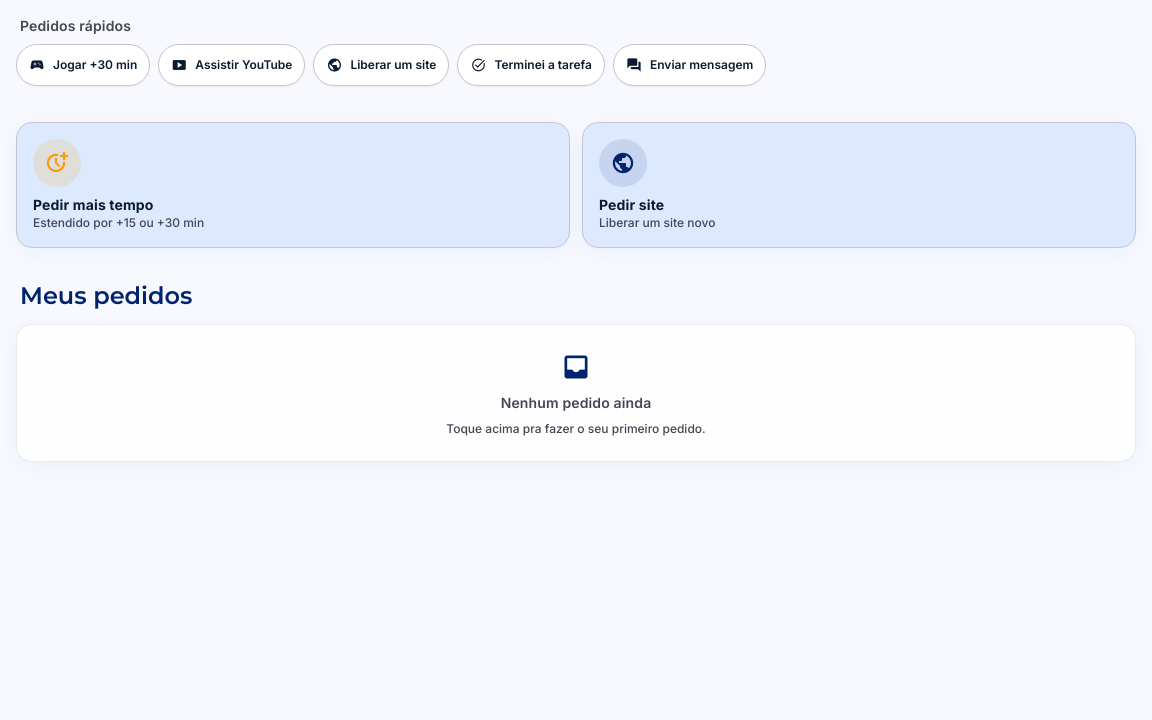
Requests › mostra erro do form quando a criação falha
Expected: the text "Nenhum pedido ainda" is shown, x1=501 y1=393 x2=651 y2=413
Click the button "Pedir mais tempo Estendido por +15 ou +30 min".
click(57, 163)  # box x1=16 y1=122 x2=570 y2=248
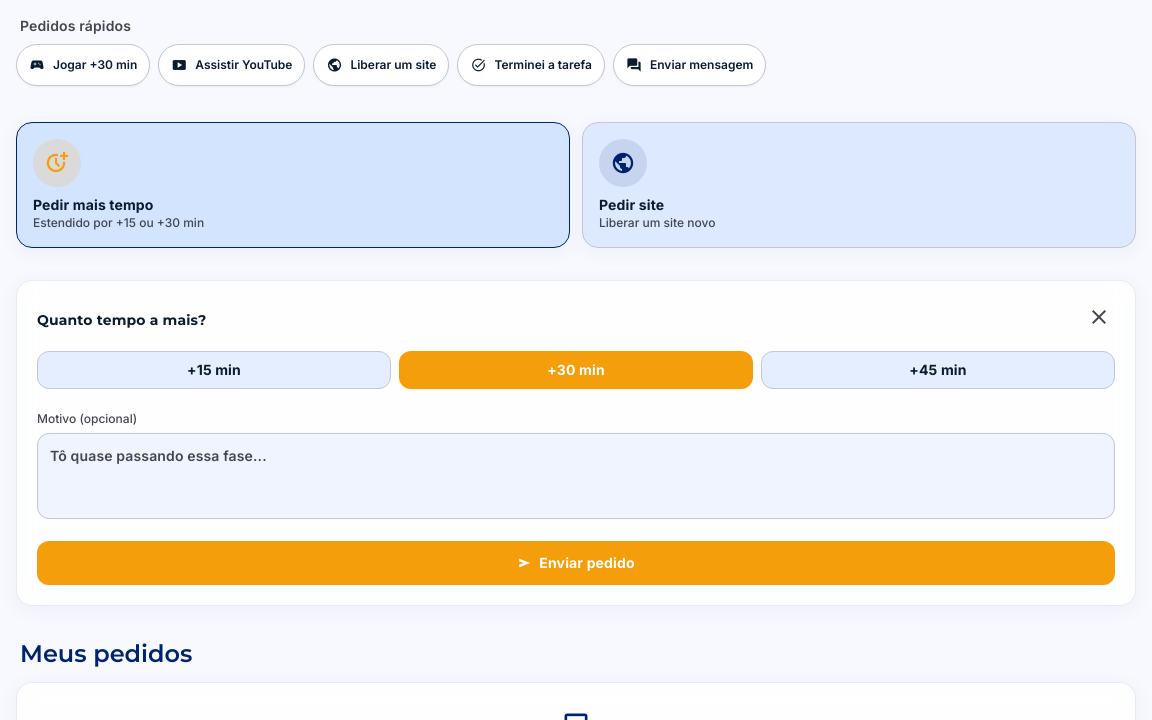
Click the button "Enviar pedido".
click(576, 563)  # box x1=37 y1=541 x2=1115 y2=585
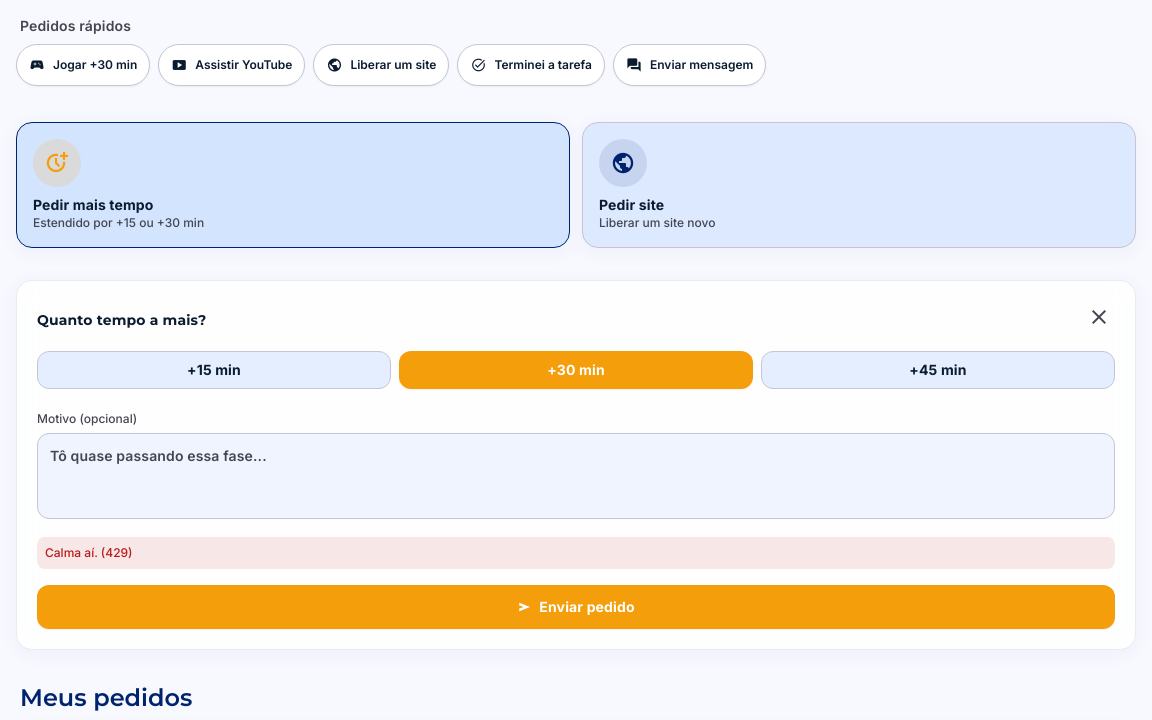
Result: the text "Calma aí. (429)" is shown at x1=37 y1=537 x2=1115 y2=569
